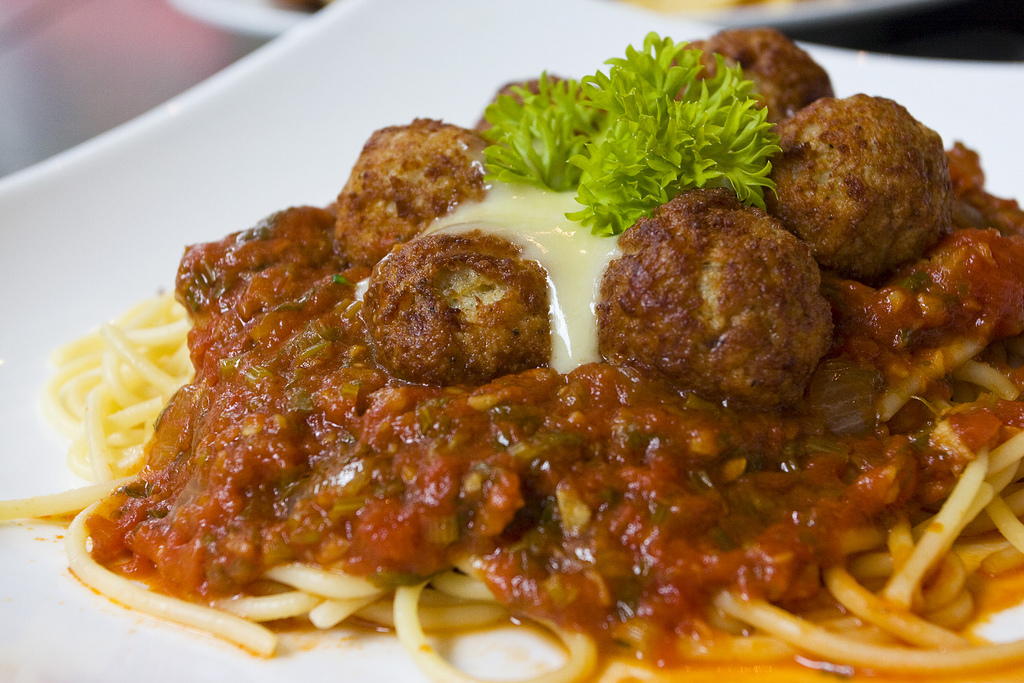chopped lettuce: (547, 92, 711, 174)
meatballs: (201, 236, 352, 466), (632, 220, 822, 389), (783, 89, 960, 251), (375, 225, 527, 364)
plain spaghetti: (96, 333, 173, 433)
